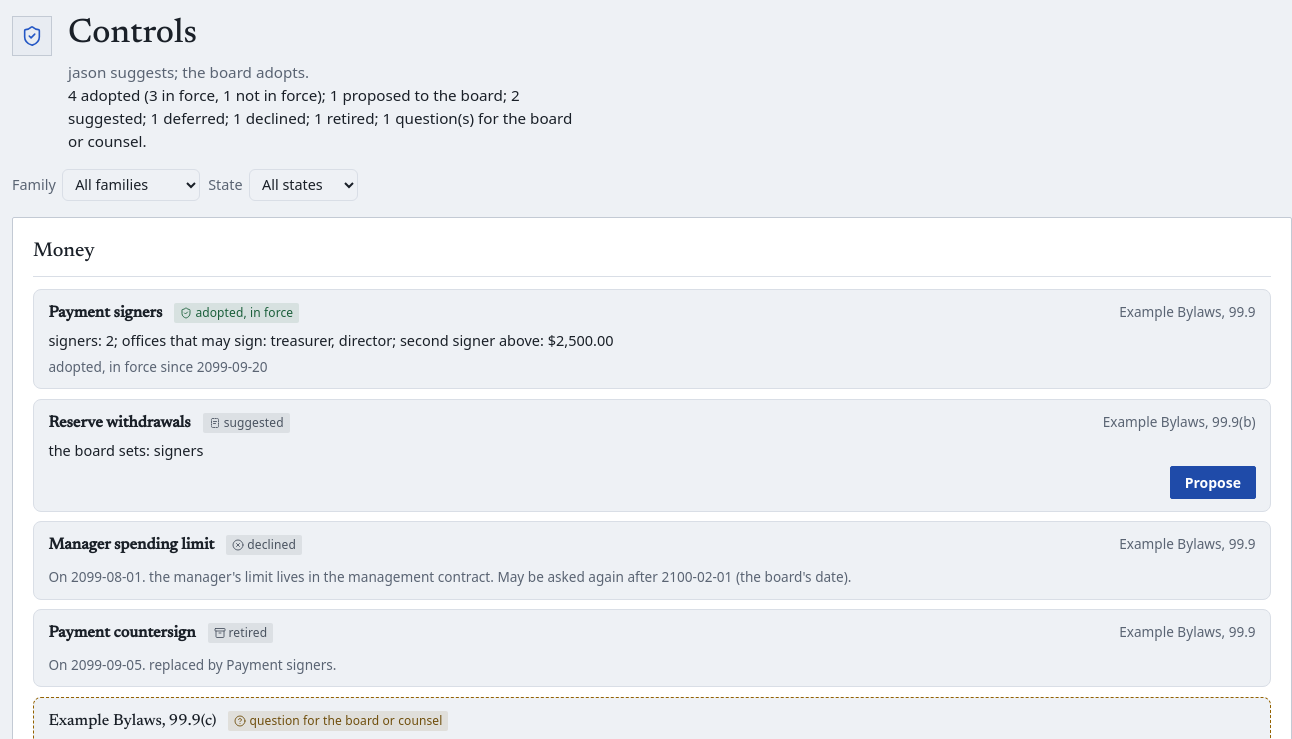
Test: Controls, the list › puts a suggestion before the board only through Confirm, with {act: 'propose'} and nothing else
The image size is (1292, 739).
Expected: the heading "Money" is shown, [33, 236, 95, 266]
Click the button named "Propose Reserve withdrawals to the board" at (1213, 483), box [1170, 466, 1256, 499]
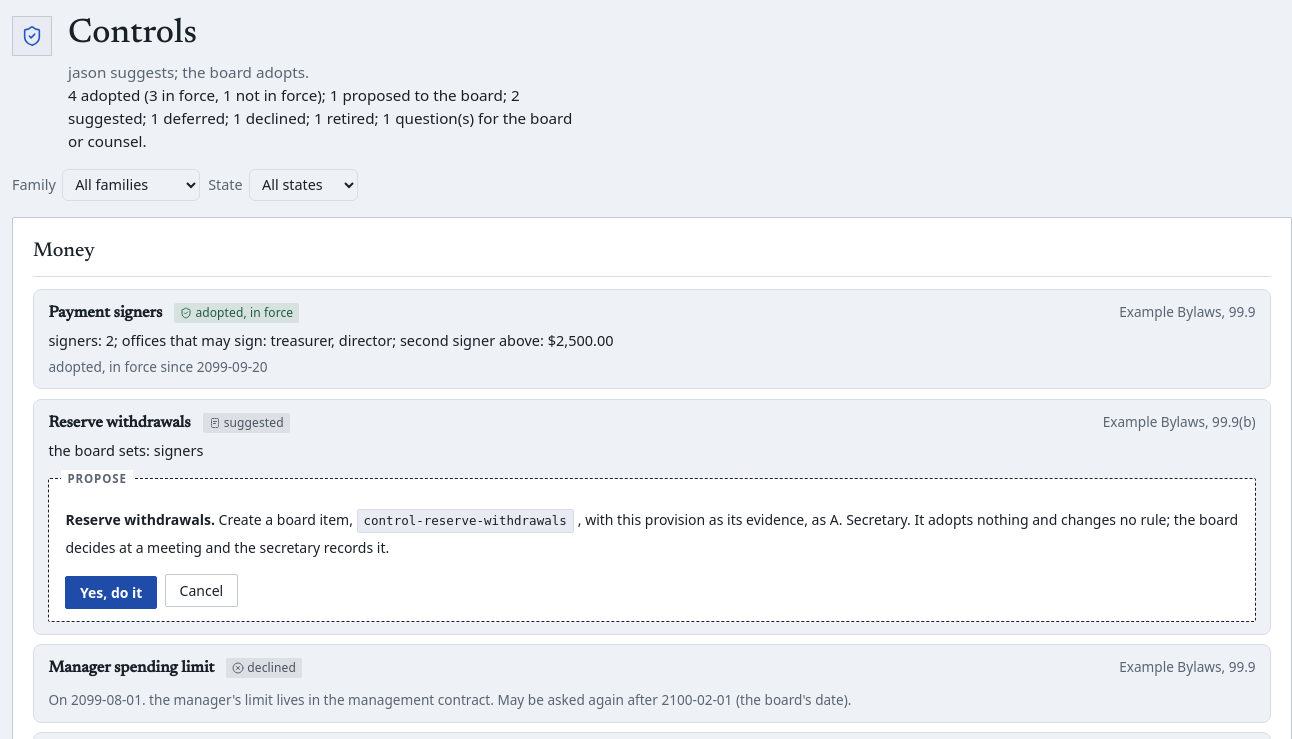
Now the element "Propose" shows "as A. Secretary", box [48, 478, 1256, 622]
Now the element "Propose" shows "control-reserve-withdrawals", box [48, 478, 1256, 622]
Now the element "Propose" shows "It adopts nothing and changes no rule", box [65, 510, 1238, 557]
Click the button "Yes, do it" at (111, 593), box [65, 576, 157, 610]
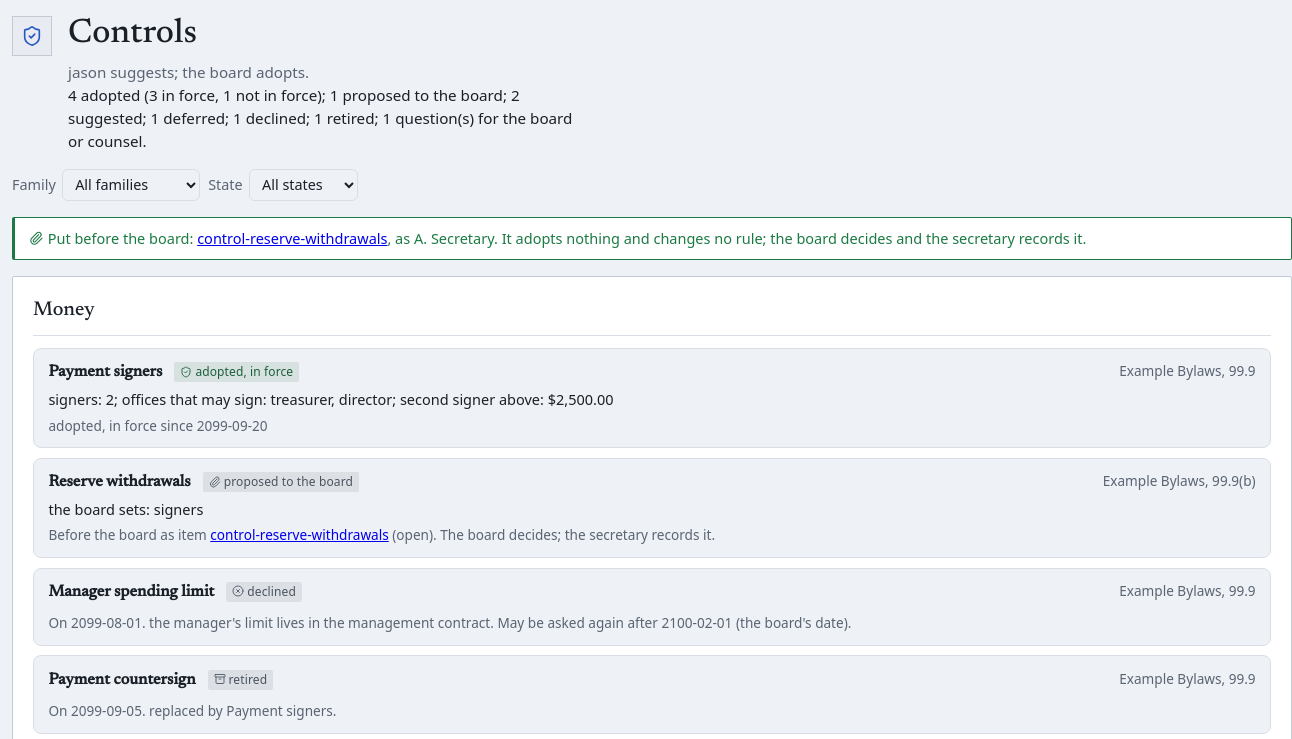
Now the message shows "It adopts nothing", box [494, 228, 1086, 248]
Now the button "Yes, do it" is gone
